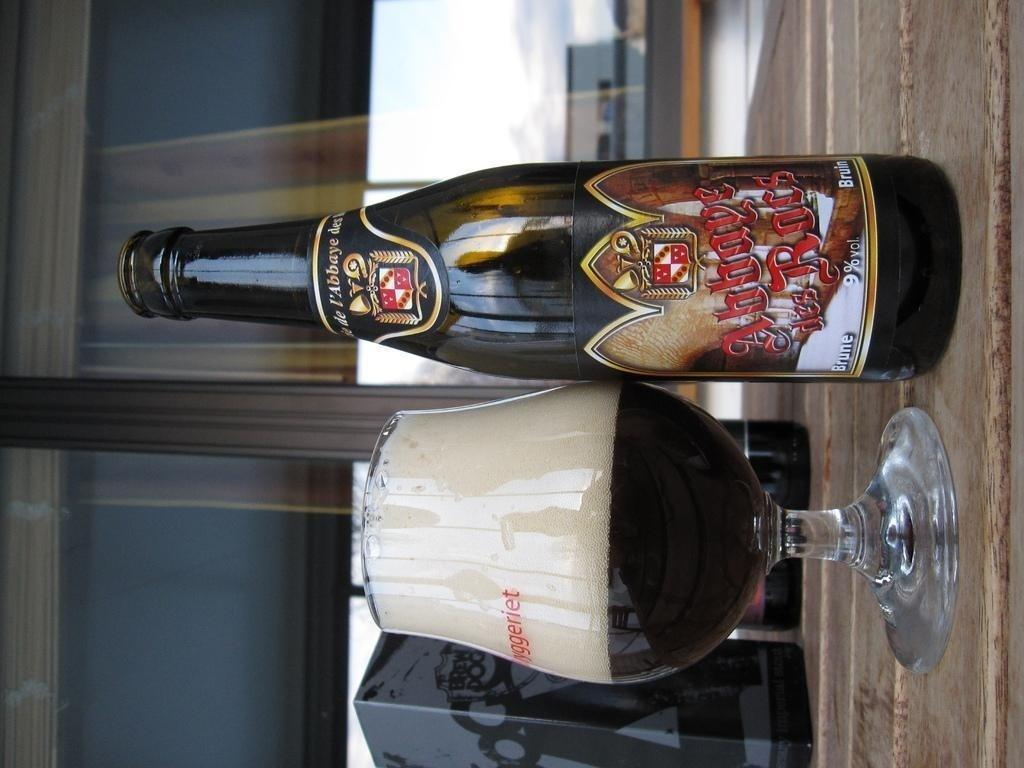bottle-glass: (118, 146, 973, 391)
glass-wine: (359, 376, 956, 685)
